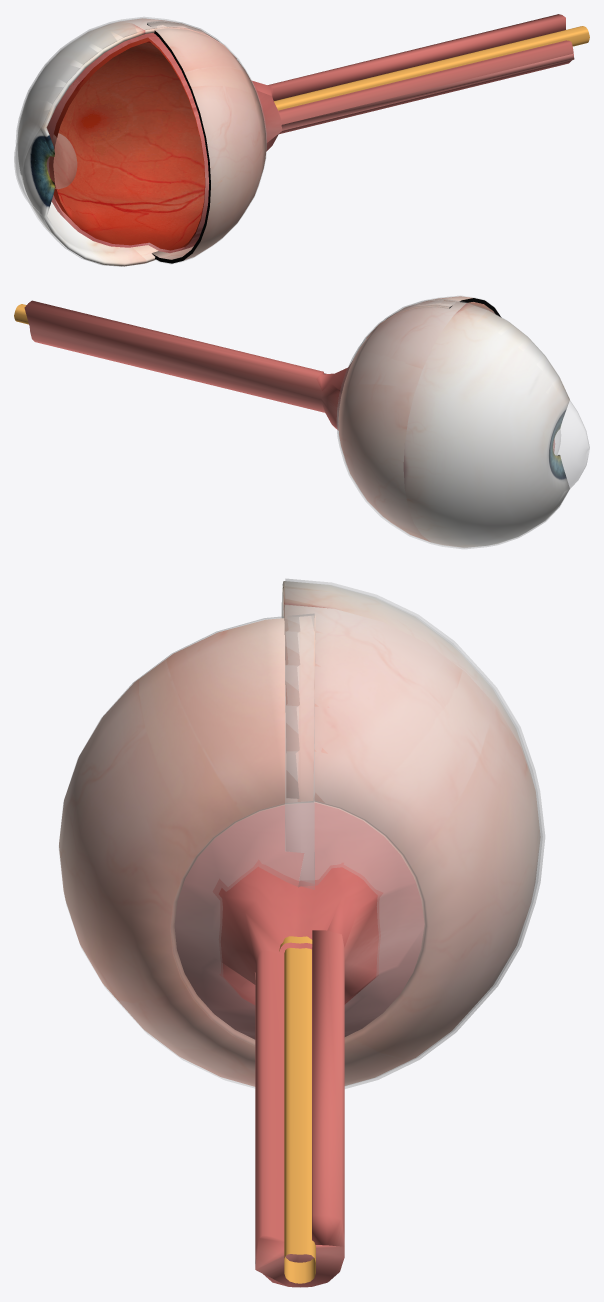
File: eye-glaucoma.glb
3 renders of one model, top to bottom at view 1: azimuth 30°, elevation 25°; view 2: azimuth 150°, elevation 25°; view 3: azimuth 270°, elevation 25°, orthographic. The views are drawn at different scales.
Parts seen in each view (by area): view 1: Sphere.002 (animated), Sphere (animated), eye (animated), cornea.001 (animated), eye.003 (animated), cornea (animated), glaucoma nerve (animated), 구체 (animated); view 2: cornea (animated), eye.003 (animated), Sphere (animated), eye (animated), cornea.001 (animated); view 3: cornea (animated), cornea.001 (animated), eye.003 (animated), eye (animated), Sphere (animated), glaucoma nerve (animated).
Part boxes in pixels (bbox=[...]): Sphere.002 (animated): bbox=[49, 37, 205, 250]; Sphere (animated): bbox=[46, 14, 574, 252]; eye (animated): bbox=[147, 21, 266, 263]; cornea.001 (animated): bbox=[147, 21, 266, 263]; eye.003 (animated): bbox=[17, 18, 236, 266]; cornea (animated): bbox=[14, 17, 243, 266]; glaucoma nerve (animated): bbox=[274, 26, 589, 110]; 구체 (animated): bbox=[46, 133, 76, 188]; cornea (animated): bbox=[337, 299, 589, 548]; eye.003 (animated): bbox=[338, 300, 569, 547]; Sphere (animated): bbox=[24, 300, 554, 451]; eye (animated): bbox=[366, 296, 501, 338]; cornea.001 (animated): bbox=[359, 295, 494, 347]; cornea (animated): bbox=[285, 579, 544, 1088]; cornea.001 (animated): bbox=[59, 613, 314, 1088]; eye.003 (animated): bbox=[281, 581, 540, 1085]; eye (animated): bbox=[59, 615, 315, 1086]; Sphere (animated): bbox=[174, 802, 424, 1287]; glaucoma nerve (animated): bbox=[279, 936, 315, 1283].
Bounding box in the file's own units: 5.73 × 2.26 × 2.12.
Materials: 7 (4 with a texture image).
